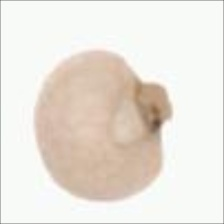L5: (132, 74, 176, 135), (105, 94, 147, 148), (32, 124, 60, 181)
L6: (27, 45, 176, 208)
